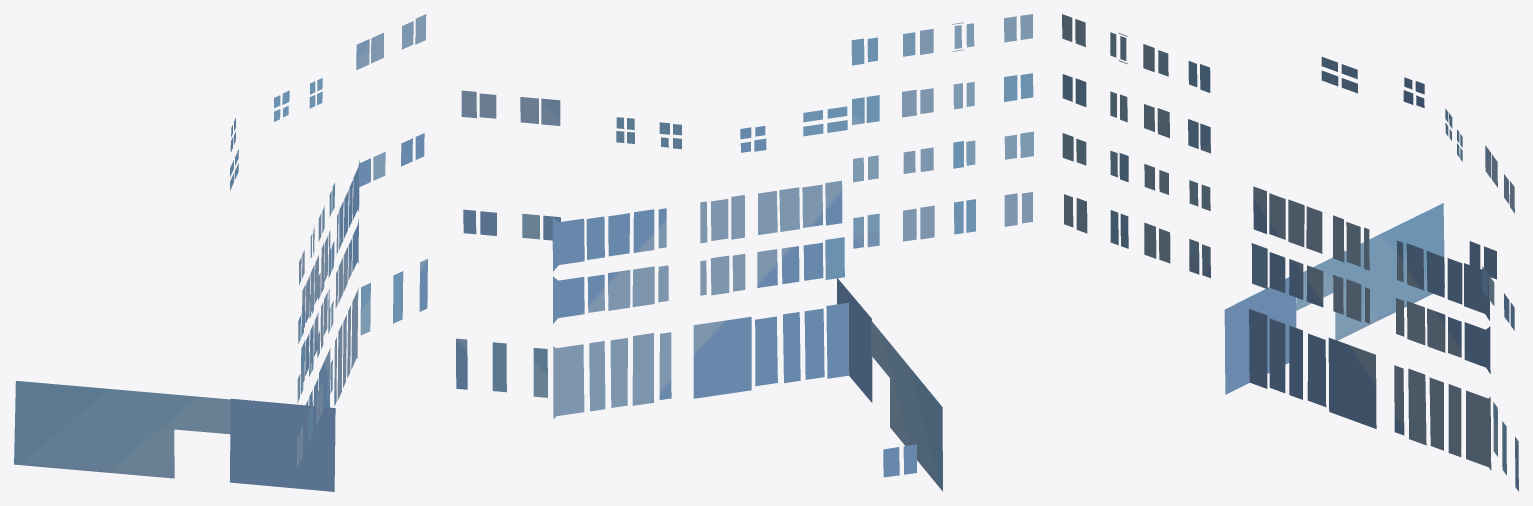
Rendered from ictc_glass.fbx.
3 renders of one model, left to right at view 1: azimuth 30°, elevation 25°; view 2: azimuth 150°, elevation 25°; view 3: azimuth 270°, elevation 25°, orthographic. The views are drawn at different scales.
Parts seen in each view (by area): view 1: Cube.001; view 2: Cube.001; view 3: Cube.001.
Boxes of the visible parts, box(x1,y1,x2,y2) form: Cube.001: box(14, 14, 427, 491); Cube.001: box(456, 14, 1033, 491); Cube.001: box(1062, 14, 1518, 491).
Bounding box in the file's own units: 1658 × 1122 × 1427.
1 material, 1 textured.
